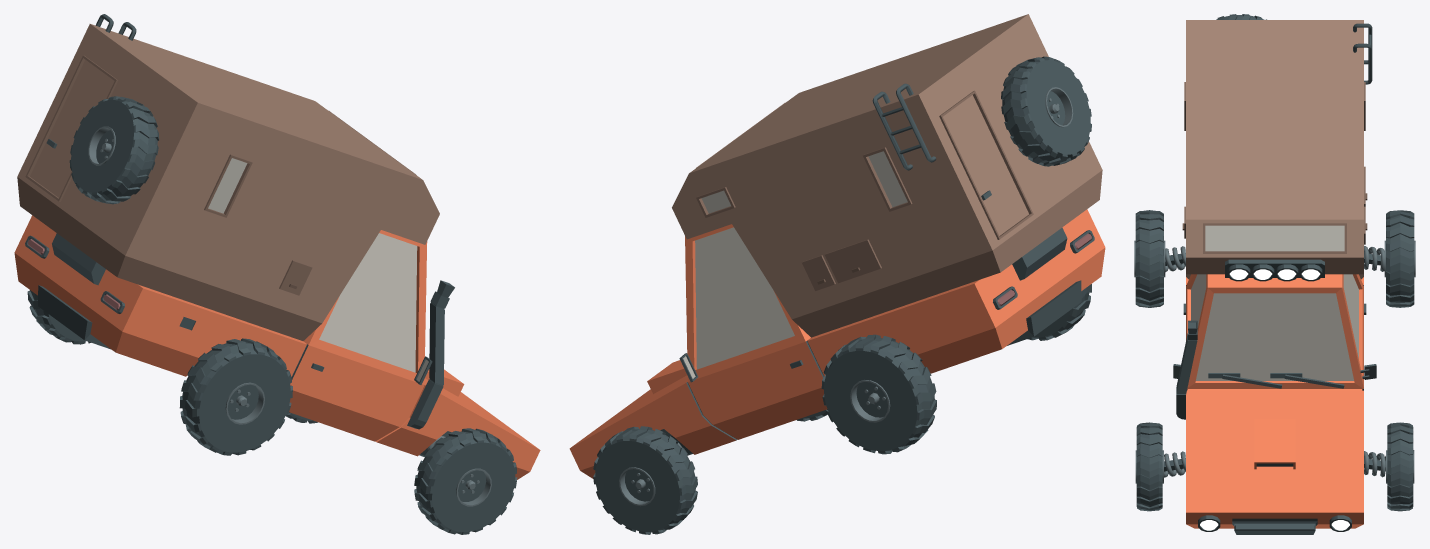
File: banana.gltf
The picture shows the model from 3 angles, left to right: view 1: azimuth 30°, elevation 25°; view 2: azimuth 150°, elevation 25°; view 3: azimuth 270°, elevation 25°; orthographic projection. The views are drawn at different scales.
Parts seen in each view (by area): view 1: Frame, Rear_wheel.001, Front_wheel.001, Rear_wheel; view 2: Frame, Rear_wheel, Front_wheel, Rear_wheel.001; view 3: Frame, Rear_wheel, Rear_wheel.001, Front_wheel, Front_wheel.001, Spring.002, Spring, Spring.001, Spring.003.
Part boxes in pixels (box(x1,y1,x2,y2)): Frame: box(14, 14, 540, 479); Rear_wheel.001: box(179, 338, 292, 455); Front_wheel.001: box(414, 428, 517, 534); Rear_wheel: box(27, 290, 90, 344); Frame: box(569, 14, 1105, 478); Rear_wheel: box(821, 334, 936, 454); Front_wheel: box(593, 426, 697, 534); Rear_wheel.001: box(1027, 284, 1091, 340); Frame: box(1173, 14, 1376, 534); Rear_wheel: box(1384, 210, 1415, 307); Rear_wheel.001: box(1134, 210, 1165, 307); Front_wheel: box(1386, 422, 1414, 511); Front_wheel.001: box(1135, 422, 1163, 511); Spring.002: box(1164, 451, 1185, 477); Spring: box(1364, 451, 1385, 477); Spring.001: box(1364, 246, 1384, 271); Spring.003: box(1165, 246, 1185, 272).
Size of the model in its own units: 9.15 by 9.72 by 6.33.
